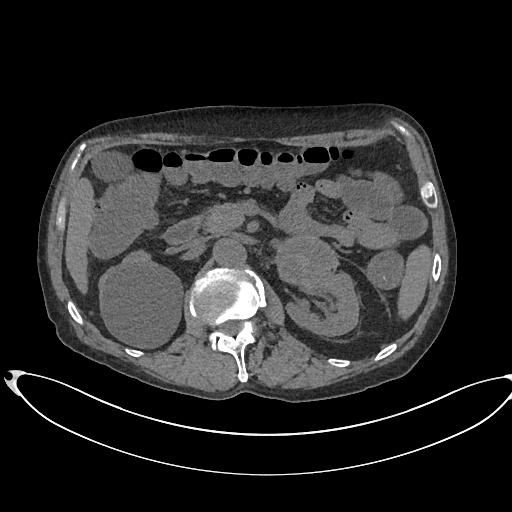Lesion: (272, 238, 343, 288)
